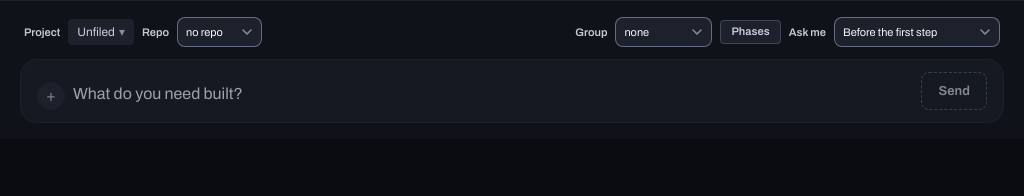
Scenario: ChatInput preflight (§7.8, EC43) › blocks a repo-less code intent — zero POST /runs — and the override launches
Type "fix the login bug" into the text box with test id "launch-problem" at x=493, y=96, box [73,82,914,110]
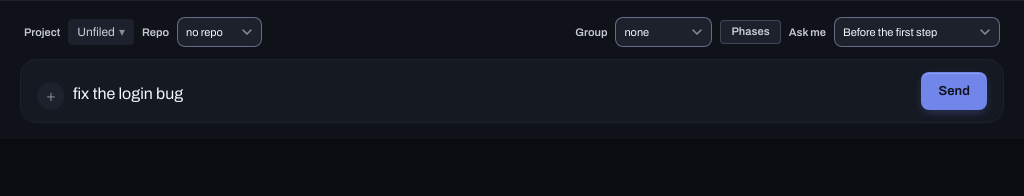
Now the button with test id "launch-submit" is enabled
Click the button with test id "launch-submit" at x=954, y=91, box [922,72,987,110]
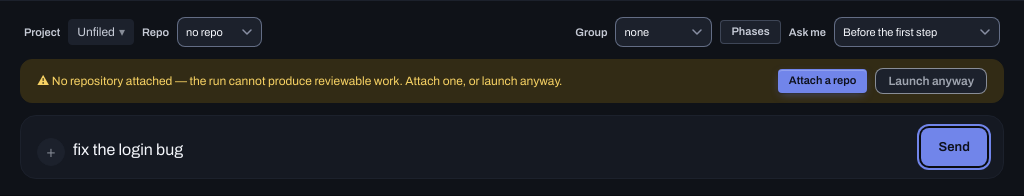
Now the element with test id "preflight-block" is shown, box [20,59,1004,103]
Click the button with test id "preflight-override" at x=931, y=81, box [875,68,987,94]
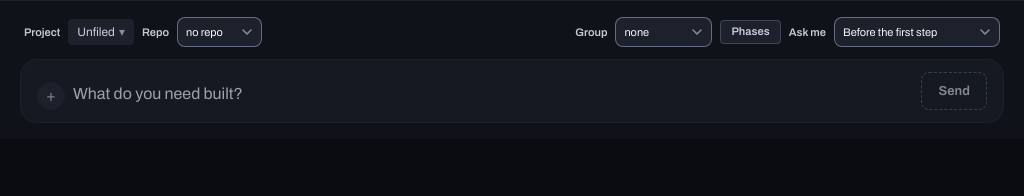
Now the element with test id "preflight-block" is gone
